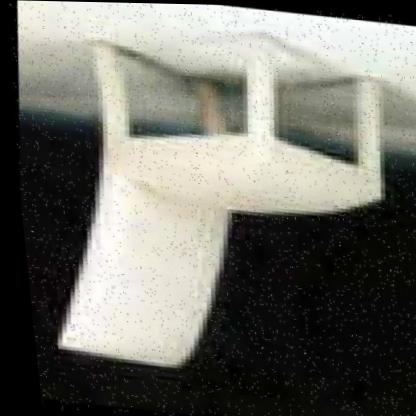Chair: (8, 8, 416, 403)
